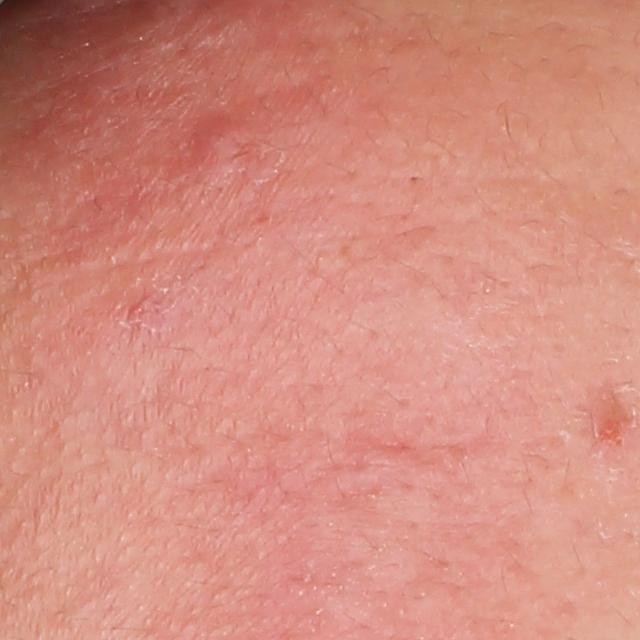papule: (187, 113, 247, 173)
